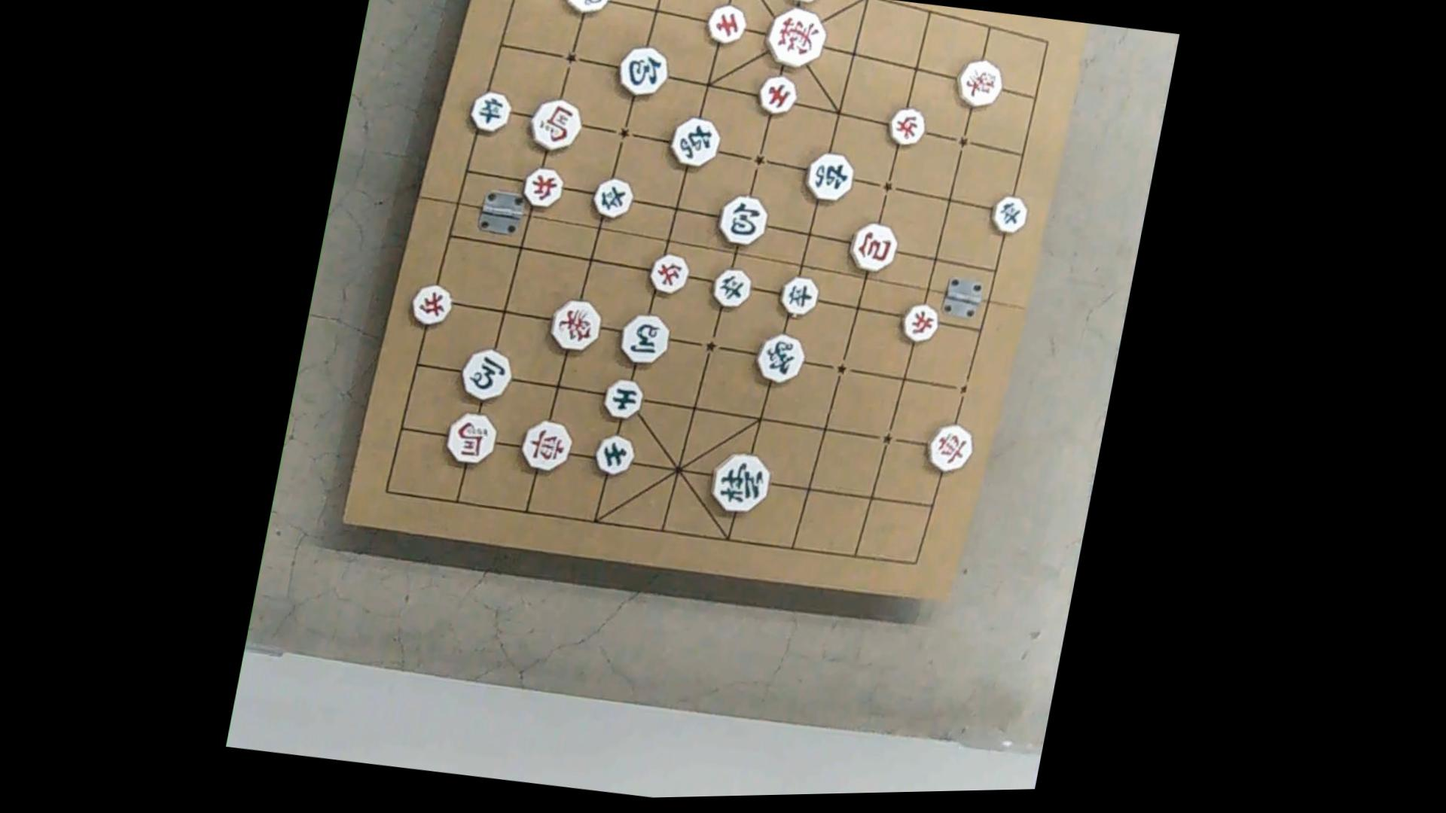cha_green: (665, 115, 721, 169), (801, 151, 857, 203)
cha_red: (517, 419, 574, 475), (923, 422, 976, 475)
jol_green: (465, 91, 511, 137), (707, 267, 752, 312), (588, 173, 633, 215), (774, 276, 817, 319), (987, 195, 1029, 236)
jol_red: (407, 282, 454, 327), (517, 162, 563, 206), (645, 254, 689, 297), (899, 303, 941, 346), (885, 105, 927, 145)
ma_green: (616, 311, 672, 367), (456, 346, 513, 401)
ma_red: (526, 98, 584, 154), (441, 411, 496, 467)
po_green: (613, 43, 670, 98), (715, 194, 769, 248)
po_red: (847, 219, 900, 274), (776, 0, 825, 7)
sa_green: (599, 376, 644, 419), (590, 434, 634, 477)
sa_red: (753, 73, 798, 116), (703, 2, 747, 45)
sang_green: (752, 332, 806, 385), (560, 0, 616, 16)
sang_red: (547, 300, 602, 355), (950, 59, 1004, 111)
wang_green: (704, 449, 771, 514)
wang_red: (761, 6, 829, 73)
